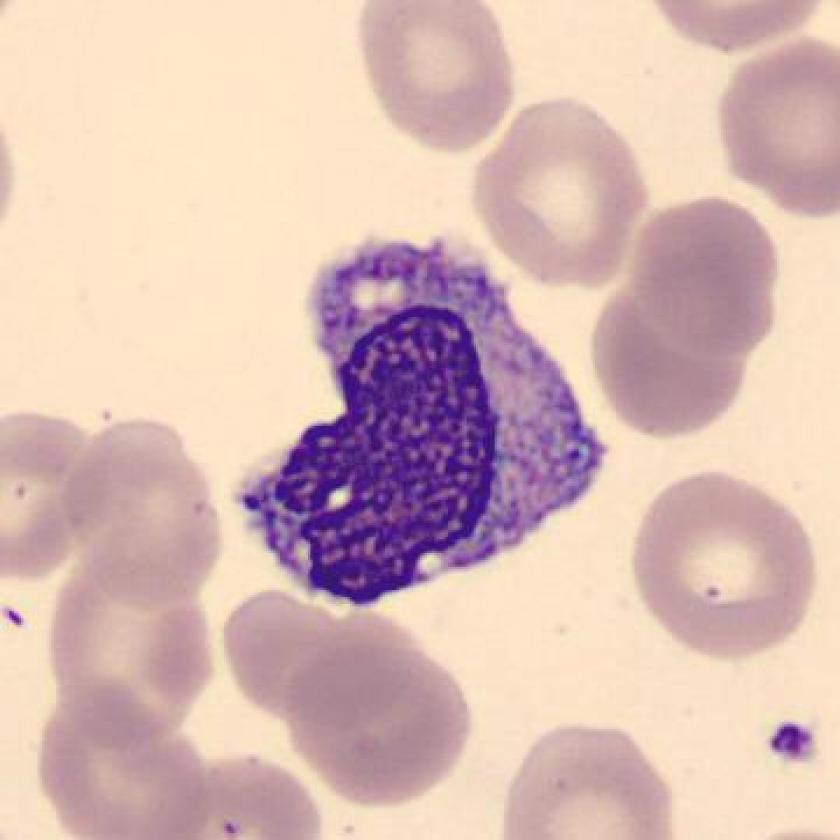monocyte: (211, 214, 636, 630)
